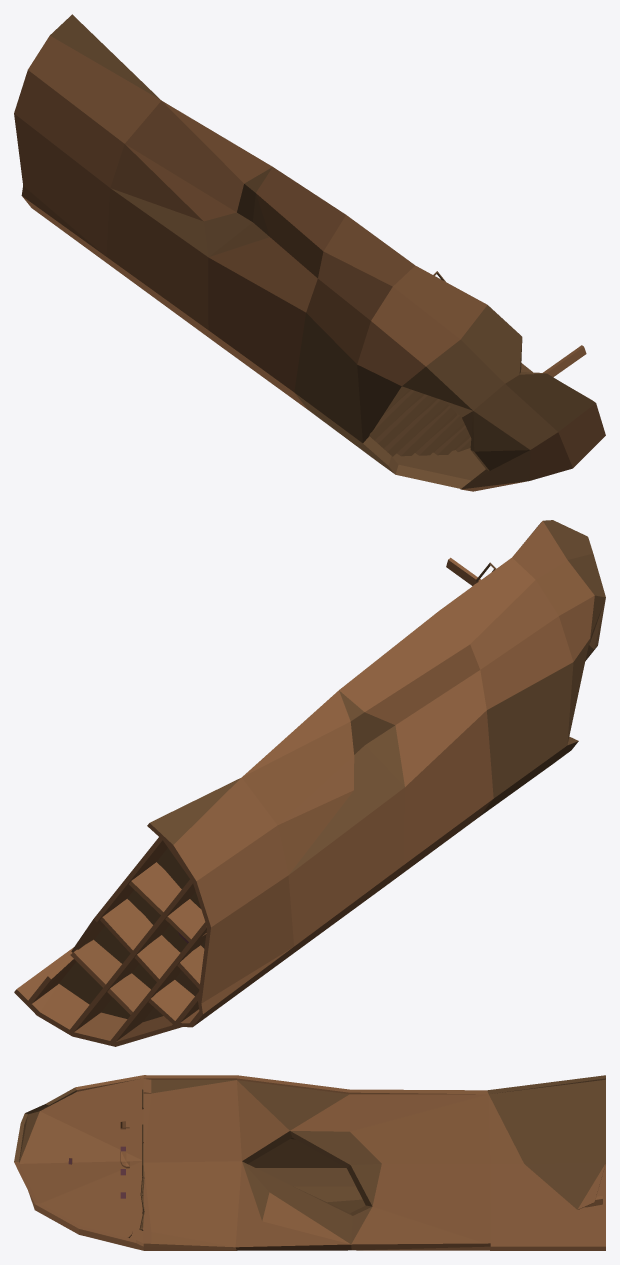
File: ship-cargo-front-apocalypse.fbx
The picture shows the model from 3 angles, top to bottom: view 1: azimuth 30°, elevation 25°; view 2: azimuth 150°, elevation 25°; view 3: azimuth 270°, elevation 25°; orthographic projection. The views are drawn at different scales.
Parts seen in each view (by area): view 1: ship-cargo-front-apocalypse; view 2: ship-cargo-front-apocalypse; view 3: ship-cargo-front-apocalypse.
Boxes of the visible parts, x1,y1,x2,y2 form: ship-cargo-front-apocalypse: (14,14,605,491); ship-cargo-front-apocalypse: (14,520,605,1046); ship-cargo-front-apocalypse: (14,1075,605,1250).
Bounding box in the file's own units: 14.52 × 15.56 × 56.24.
